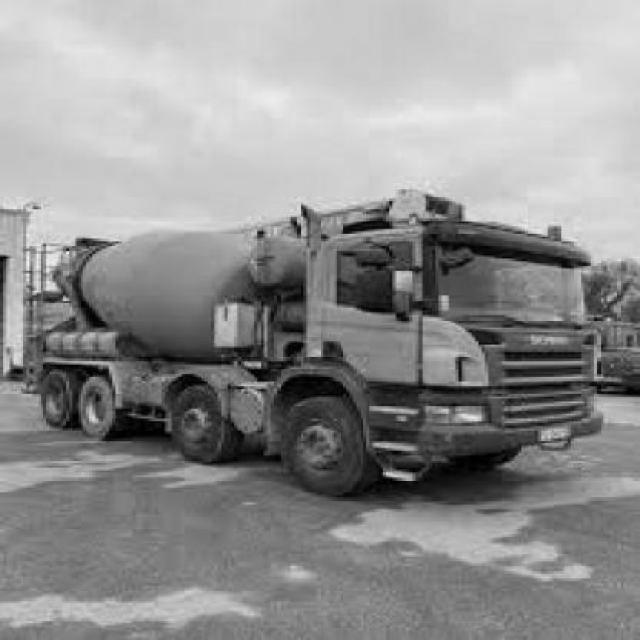Concrete Mixer: (28, 192, 606, 499)
